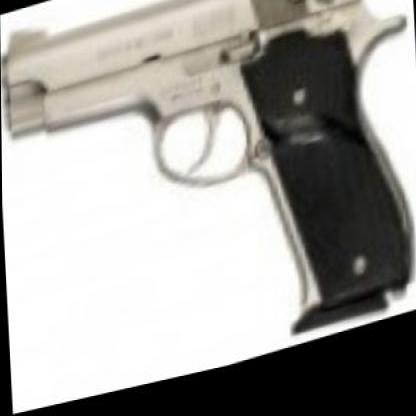pistol: (0, 0, 412, 415)
